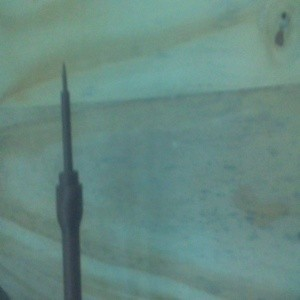solder: (54, 62, 84, 300)
